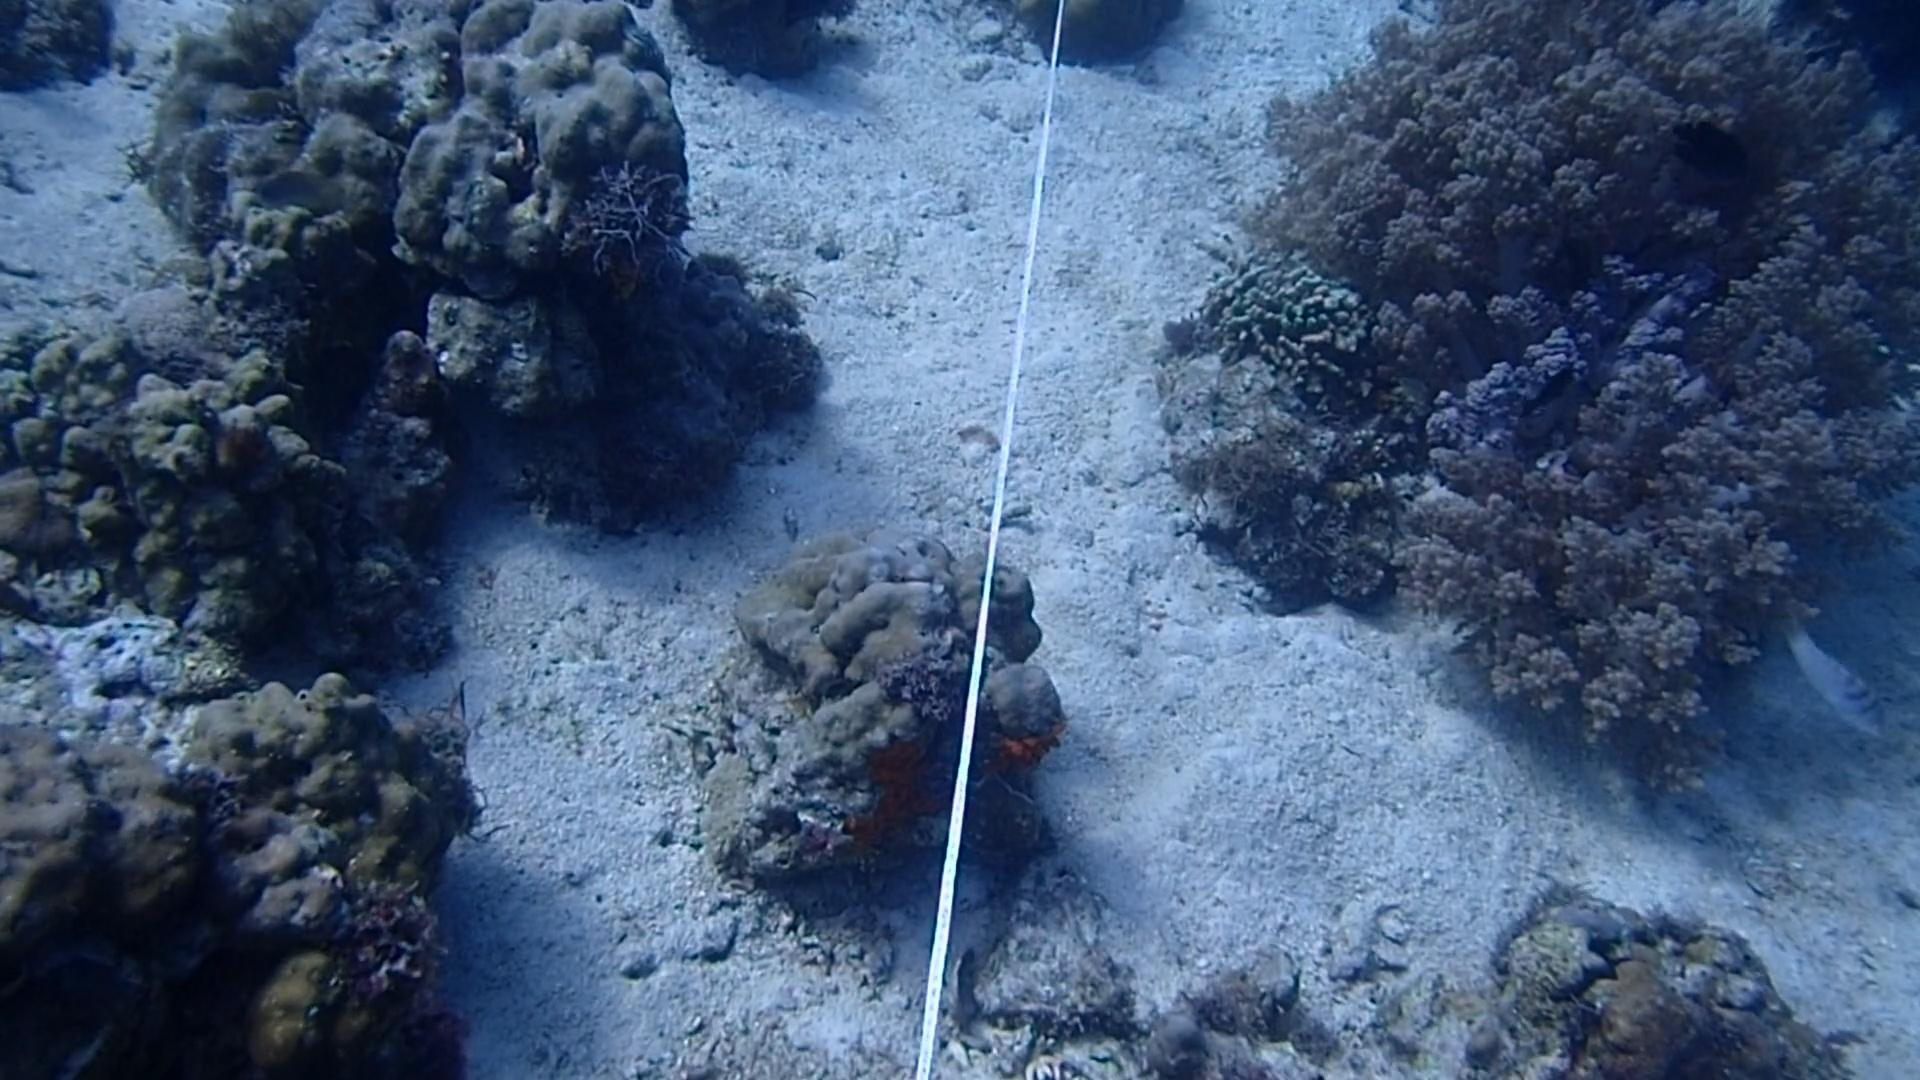Dark Fish: (1656, 104, 1749, 194), (1518, 357, 1585, 421)
Light Fish w Back Stripes: (1780, 622, 1895, 749)
